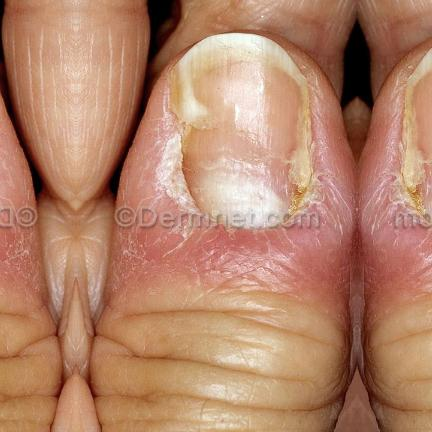Nail: (170, 33, 313, 226), (400, 48, 432, 225)
